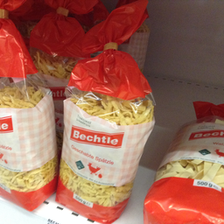pasta: (56, 46, 156, 224), (1, 12, 56, 211), (145, 101, 224, 222)
